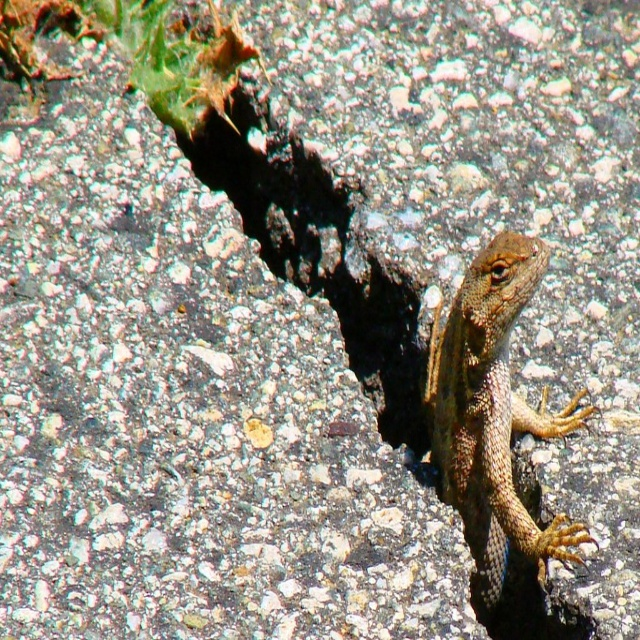Lizard: (419, 236, 606, 640)
